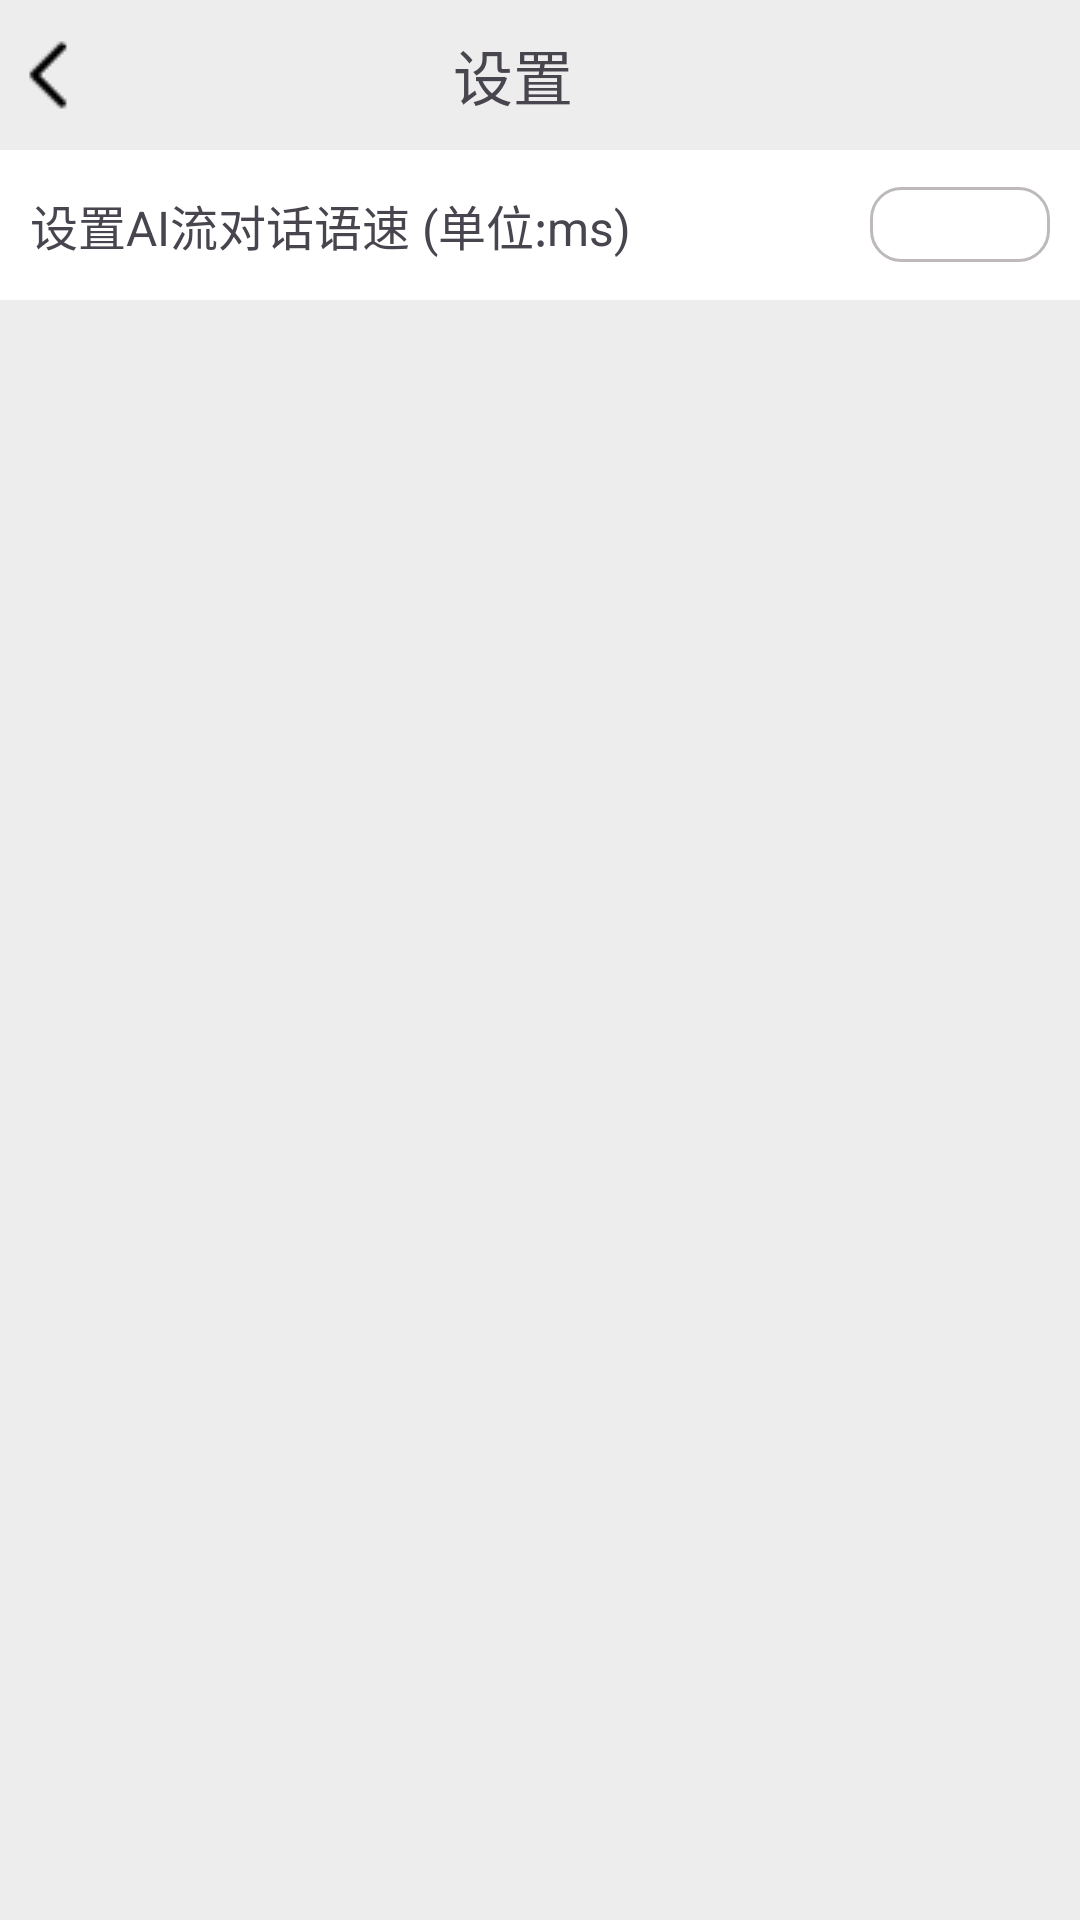

Point at icon controls on the screen. Image size 1080w x 1920h, points as (x,y).
left exit: (48,75)
